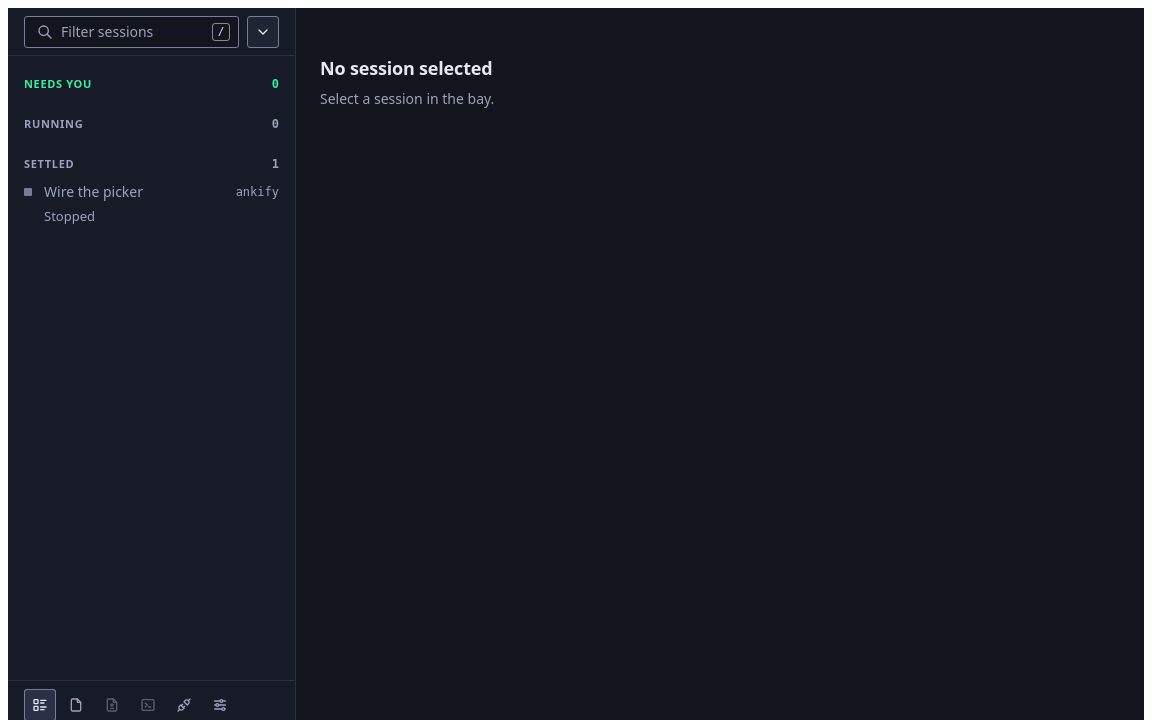
Test: reports a failed resume from the rail
Click the button "Wire the picker ankify Stopped".
click(94, 192)  # box [8,176,295,232]
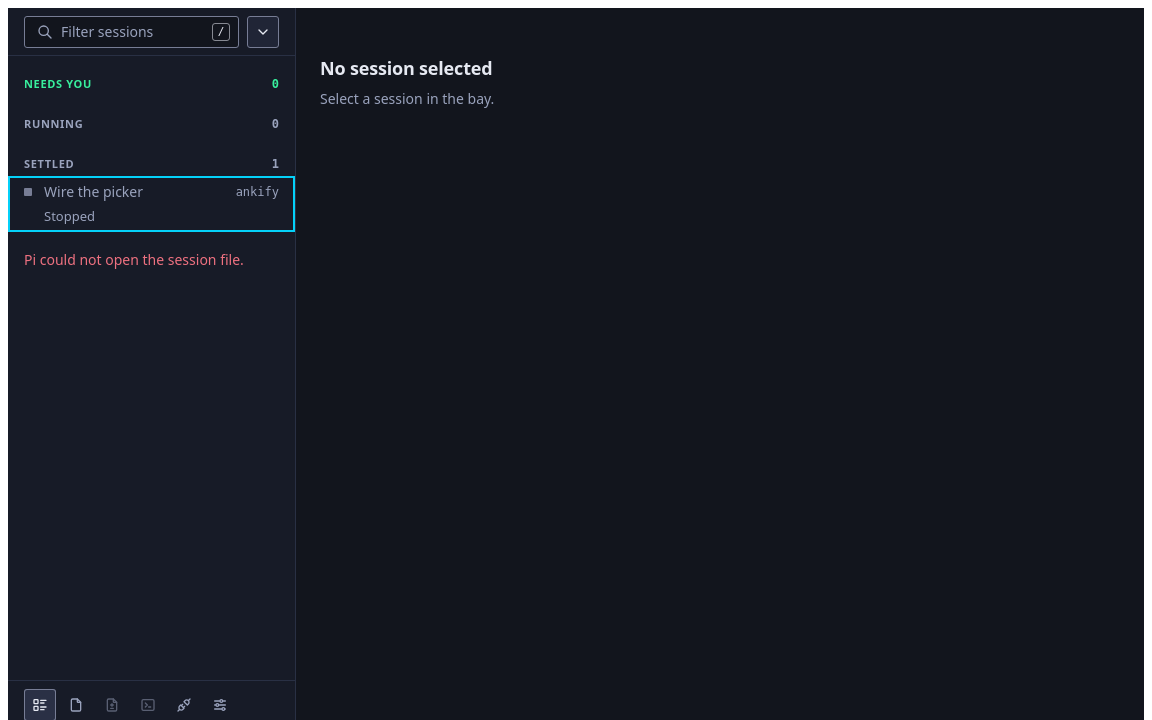
Now the message reads "Pi could not open the session file.", box [24,250,244,269]
